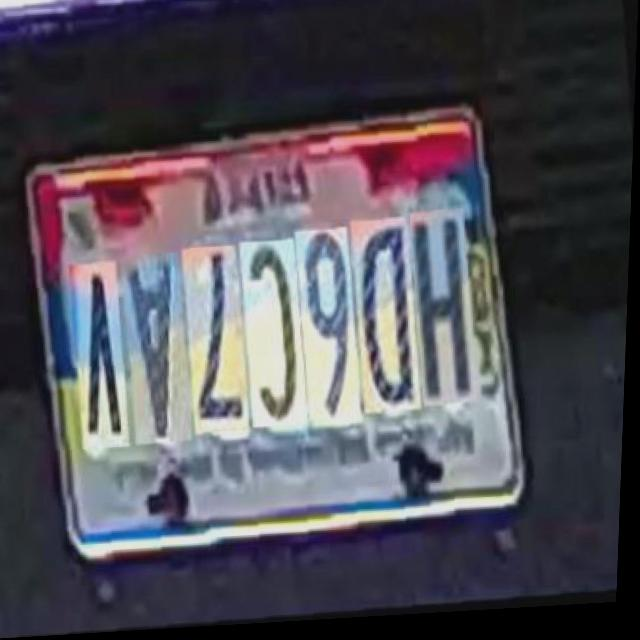6: (305, 241, 377, 436)
7: (191, 254, 264, 444)
a: (130, 259, 207, 453)
c: (248, 251, 323, 441)
d: (360, 234, 438, 430)
h: (419, 227, 494, 425)
v: (77, 266, 144, 455)
